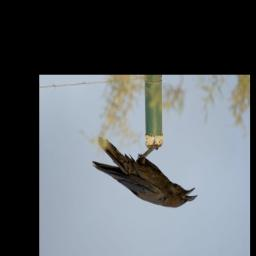Crow: (89, 136, 200, 212)
